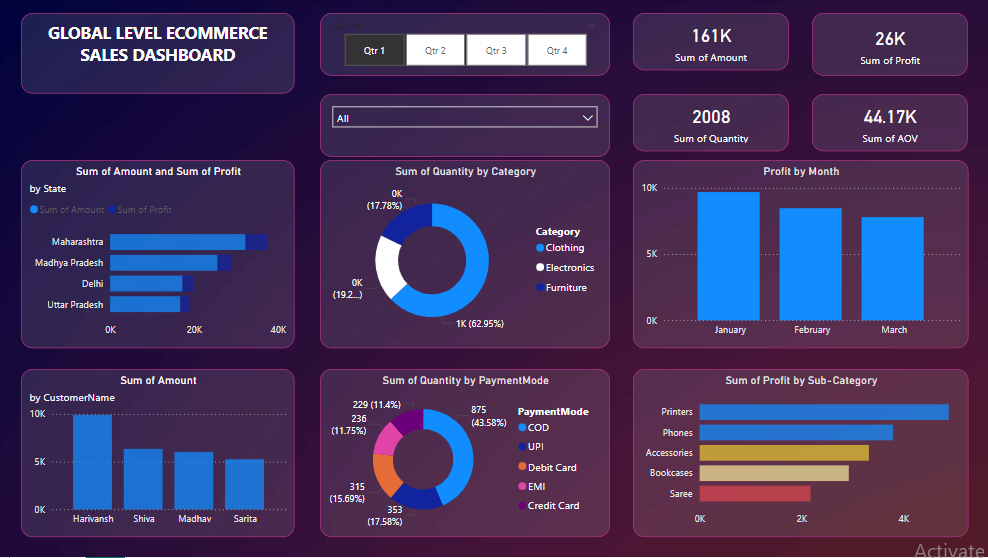

What the dashboard file says about the page in this screenshot:
{"tool":"powerbi","page":{"name":"Page 1","canvas":[1280,720],"ordinal":0},"visuals":[{"type":"textbox","box":[31.4,18.6,352.9,104.3],"z":6},{"type":"columnChart","title":" Profit by Month","fields":{"Category":["Orders.Order Date.Variation.Date Hierarchy.Month"],"Y":["Details.Profit"]},"box":[820,207.1,432.9,242.9],"z":7},{"type":"barChart","fields":{"Category":["Details.Sub-Category"],"Y":["Details.Profit"]},"box":[820,477.1,432.9,217.1],"z":8},{"type":"donutChart","fields":{"Category":["Details.Category"],"Y":["Details.Quantity"]},"box":[417.1,207.1,374.3,242.9],"z":9},{"type":"donutChart","fields":{"Y":["Details.Quantity"],"Category":["Details.PaymentMode"]},"box":[417.1,477.1,374.3,217.1],"z":10},{"type":"card","fields":{"Values":["Details.Amount"]},"box":[820,18.6,201.4,74.3],"z":11},{"type":"card","fields":{"Values":["Details.Profit"]},"box":[1051.4,18.6,201.4,81.4],"z":12},{"type":"card","fields":{"Values":["Details.Quantity"]},"box":[820,122.9,201.4,74.3],"z":13},{"type":"card","fields":{"Values":["Details.AOV"]},"box":[1051.4,122.9,201.4,74.3],"z":14},{"type":"barChart","fields":{"Category":["Orders.State","Details.Sub-Category"],"Y":["Details.Amount","Details.Profit"]},"box":[31.4,207.1,352.9,242.9],"z":15},{"type":"columnChart","fields":{"Category":["Orders.CustomerName"],"Y":["Details.Amount"]},"box":[31.4,477.1,352.9,217.1],"z":16},{"type":"slicer","fields":{"Values":["Orders.Order Date.Variation.Date Hierarchy.Quarter"]},"box":[417.1,18.6,374.3,81.4],"z":17},{"type":"slicer","fields":{"Values":["Orders.State"]},"box":[417.1,122.9,374.3,81.4],"z":18}]}

Visuals, with their boxes in screenshot pixels (x1, y1, x2, y2), scaled from the page's 1280x720 canvas onto the 988x558 screenshot:
textbox: bbox=[24, 14, 297, 95]
" Profit by Month" columnChart: bbox=[633, 161, 967, 349]
barChart - Details.Sub-Category x Details.Profit: bbox=[633, 370, 967, 538]
donutChart - Details.Category x Details.Quantity: bbox=[322, 161, 611, 349]
donutChart - Details.Quantity x Details.PaymentMode: bbox=[322, 370, 611, 538]
card - Details.Amount: bbox=[633, 14, 788, 72]
card - Details.Profit: bbox=[812, 14, 967, 78]
card - Details.Quantity: bbox=[633, 95, 788, 153]
card - Details.AOV: bbox=[812, 95, 967, 153]
barChart - Orders.State x Details.Sub-Category: bbox=[24, 161, 297, 349]
columnChart - Orders.CustomerName x Details.Amount: bbox=[24, 370, 297, 538]
slicer - Orders.Order Date.Variation.Date Hierarchy.Quarter: bbox=[322, 14, 611, 78]
slicer - Orders.State: bbox=[322, 95, 611, 158]
